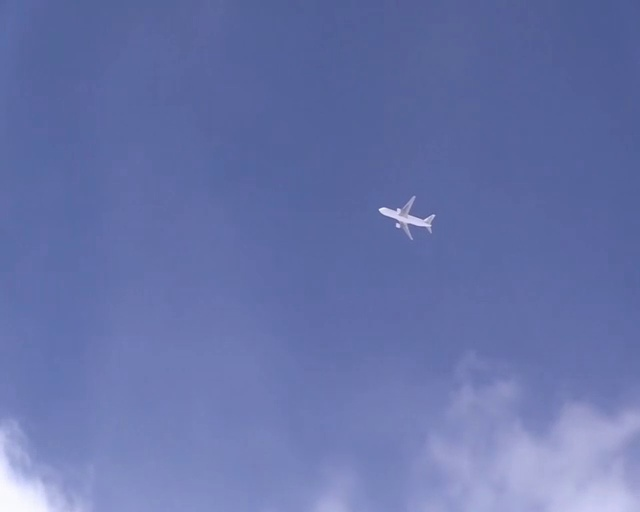AIRPLANE: (378, 195, 436, 240)
